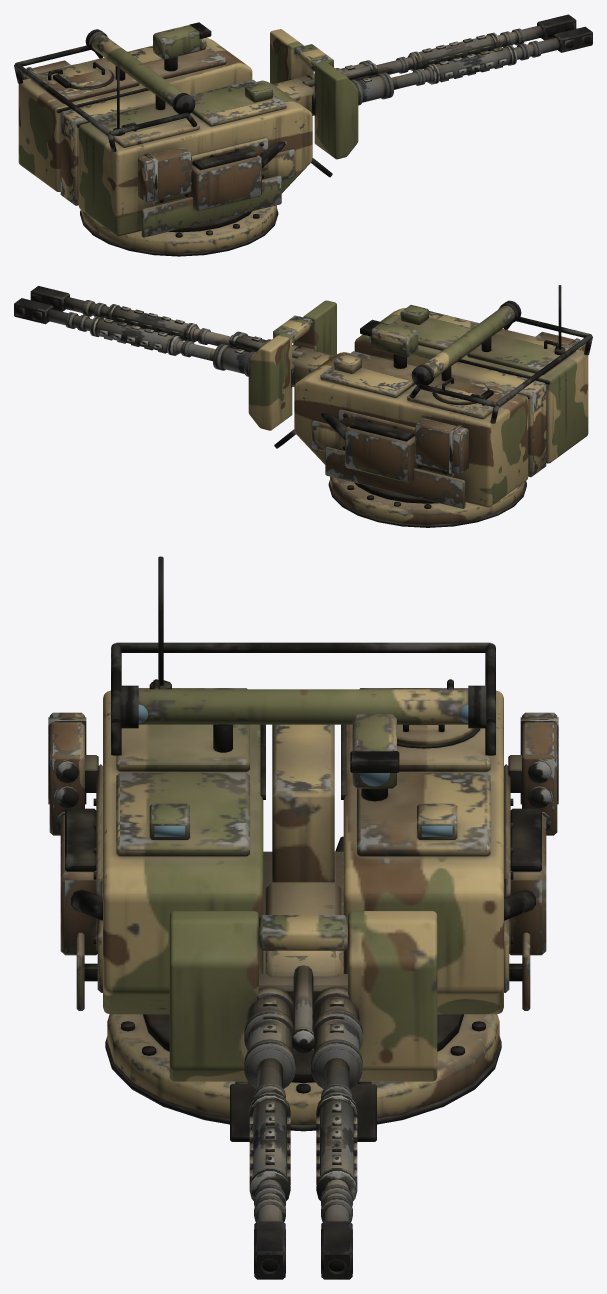
Rendered from turret_kit_t3_reed.glb.
3 views of the same model, one above another, from view 1: azimuth 30°, elevation 25°; view 2: azimuth 150°, elevation 25°; view 3: azimuth 270°, elevation 25° (orthographic). The views are drawn at different scales.
Parts seen in each view (by area): view 1: turret_twin_t3, guns, pods; view 2: turret_twin_t3, guns, pods; view 3: turret_twin_t3, guns, pods.
Part boxes in pixels (box(x1,y1,x2,y2)): turret_twin_t3: box(14, 22, 358, 256); guns: box(273, 14, 592, 115); pods: box(21, 60, 191, 202); turret_twin_t3: box(248, 285, 592, 527); guns: box(14, 286, 333, 387); pods: box(415, 331, 586, 474); turret_twin_t3: box(60, 556, 546, 1141); guns: box(244, 882, 362, 1279); pods: box(48, 712, 558, 835).
Size of the model in its own units: 2.7 by 0.98 by 1.15.
4 materials, 3 textured.
